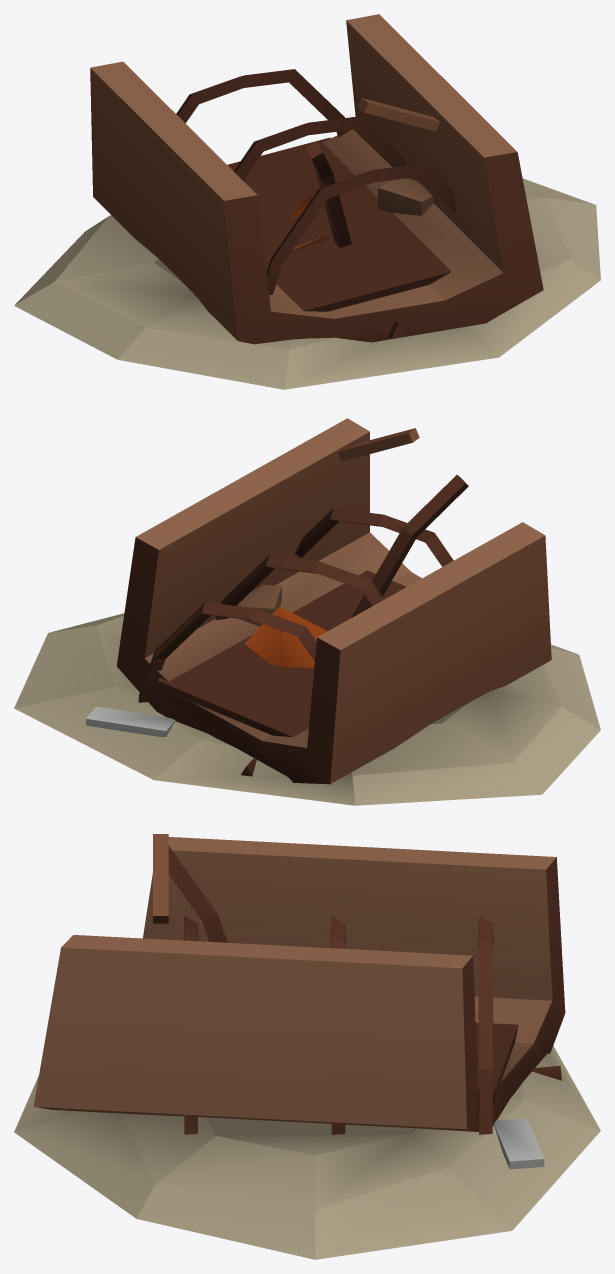
Rendered from n_wreck_small.glb.
The picture shows the model from 3 angles, top to bottom: view 1: azimuth 30°, elevation 25°; view 2: azimuth 150°, elevation 25°; view 3: azimuth 270°, elevation 25°; orthographic projection. The views are drawn at different scales.
Visible parts, largest first — view 1: body; view 2: body; view 3: body.
Part boxes in pixels (box(x1,y1,x2,y2)): body: box(14, 14, 600, 389); body: box(14, 418, 600, 805); body: box(14, 834, 600, 1259).
Bounding box in the file's own units: 2.03 × 0.8154 × 1.67.
